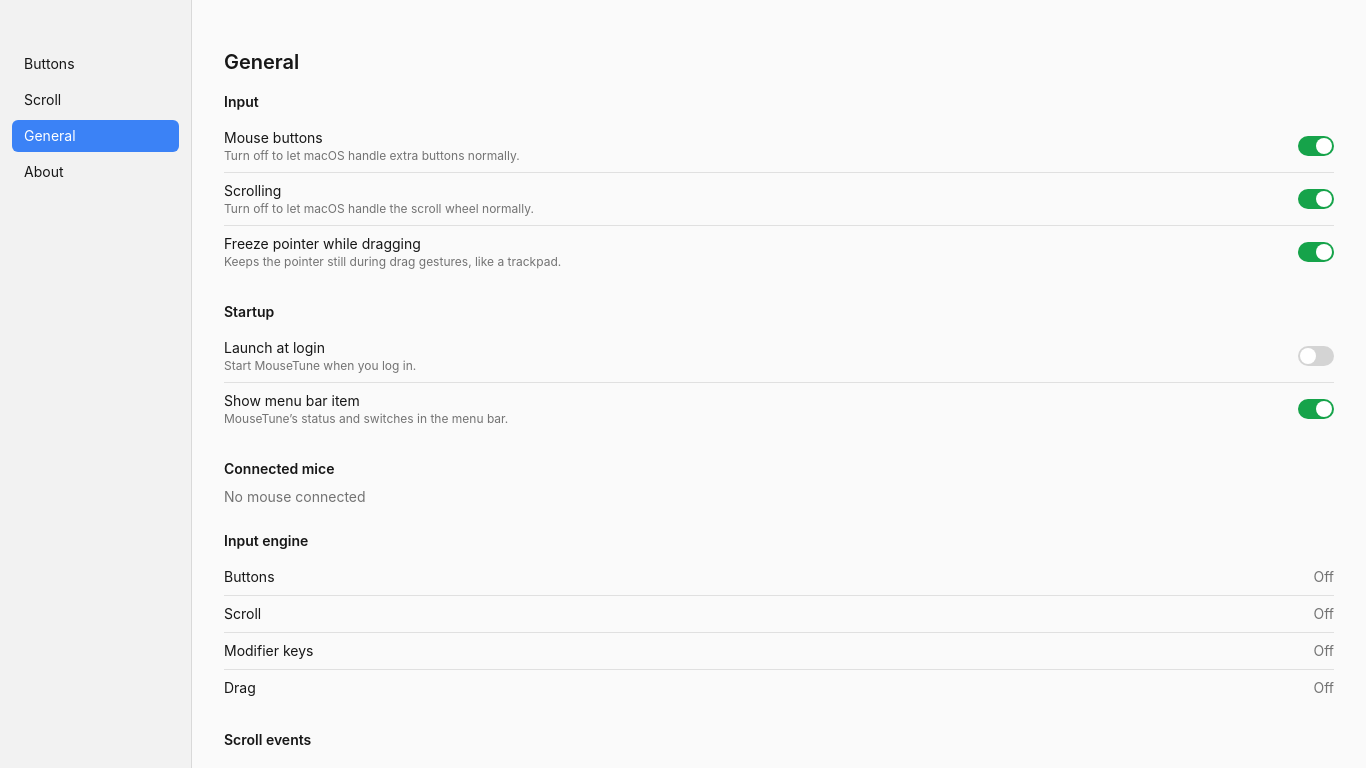
Scenario: General page: startup › hides the menu bar item and says how to get back
The width and height of the screenshot is (1366, 768).
Click the switch named "Show menu bar item" at (1316, 409), box [1298,399,1334,419]
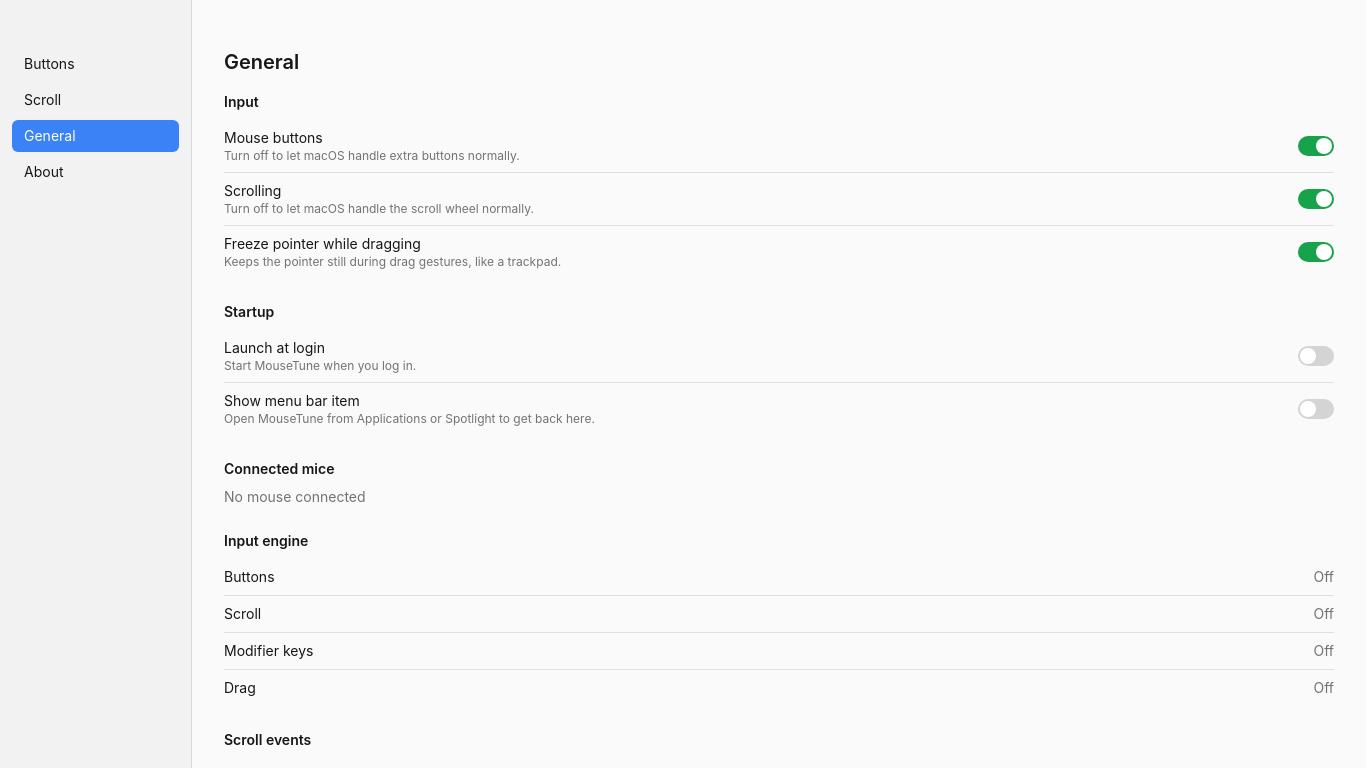
Result: the text "Open MouseTune from Applications or Spotlight to get back here." is shown at [224,411,595,427]
